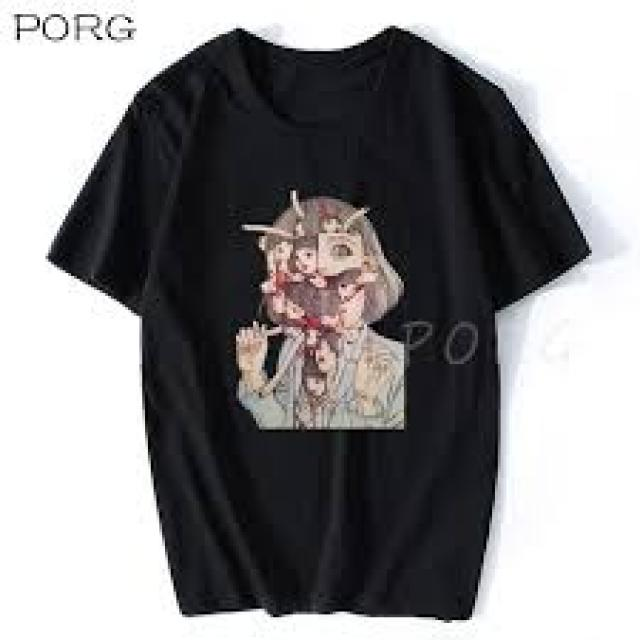Shirt: (36, 20, 578, 630)
